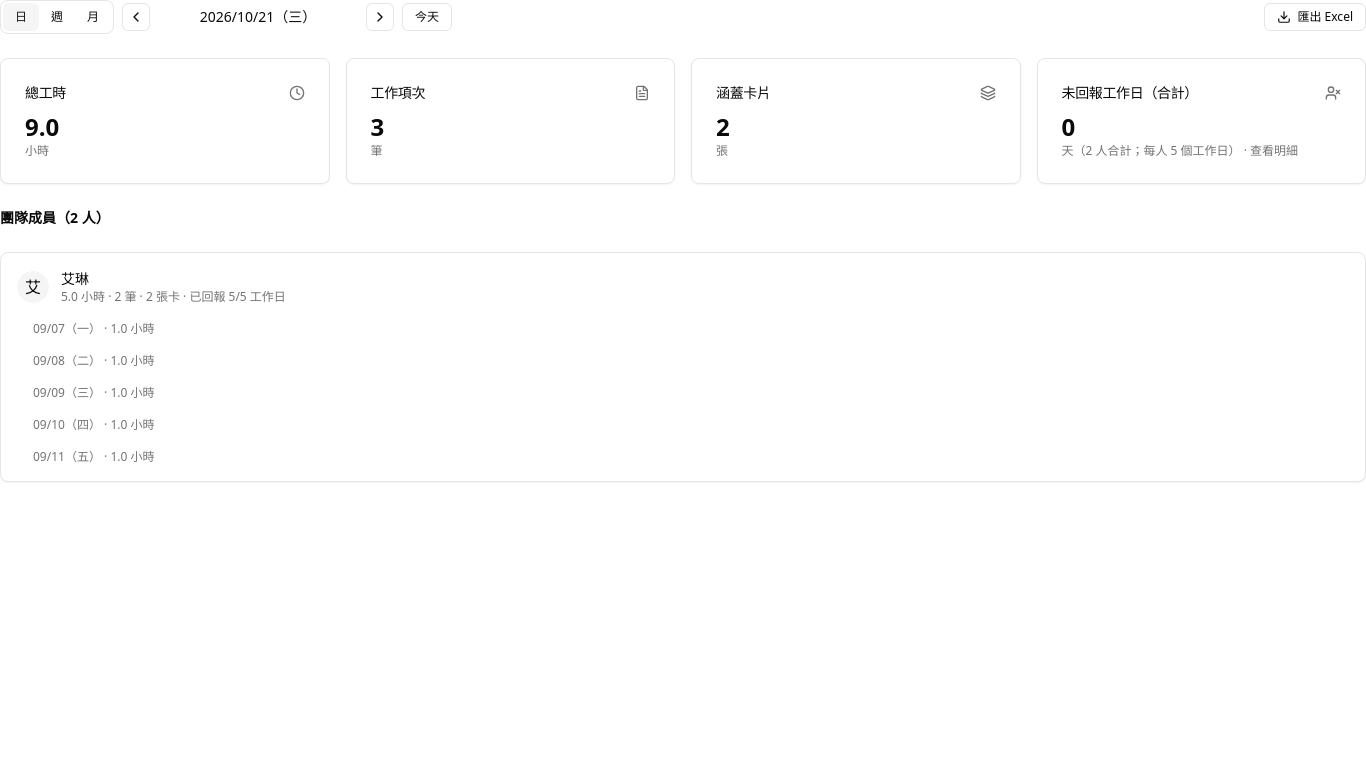
Test case: WorkLogReport › 全員無漏報時對話框顯示此期間無漏報
Expected: the text with test id "worklog-kpi-missing" reads "0", [1062,110,1075,143]
Click the button with test id "worklog-kpi-missing-button" at [1201, 121], box [1036,58,1365,184]
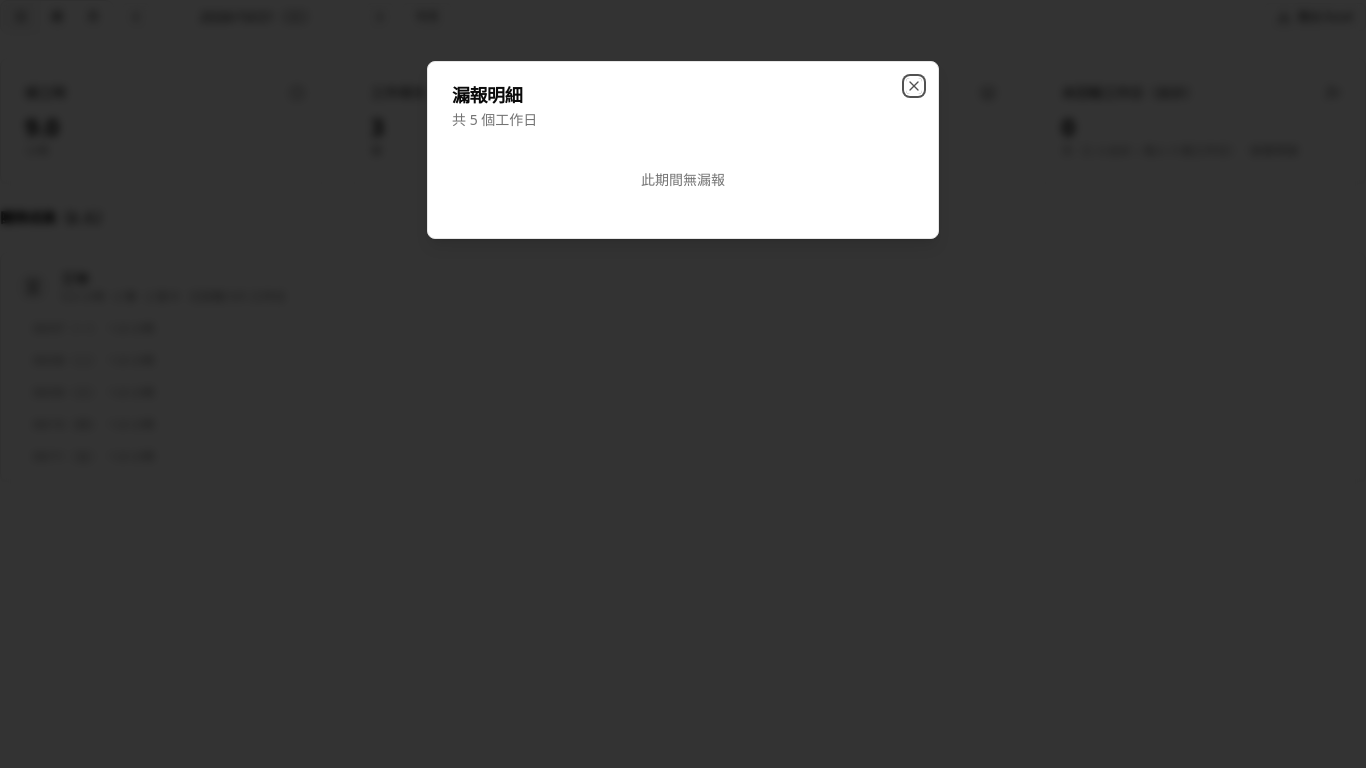
Result: the text "此期間無漏報" is shown at [641,170,725,189]
